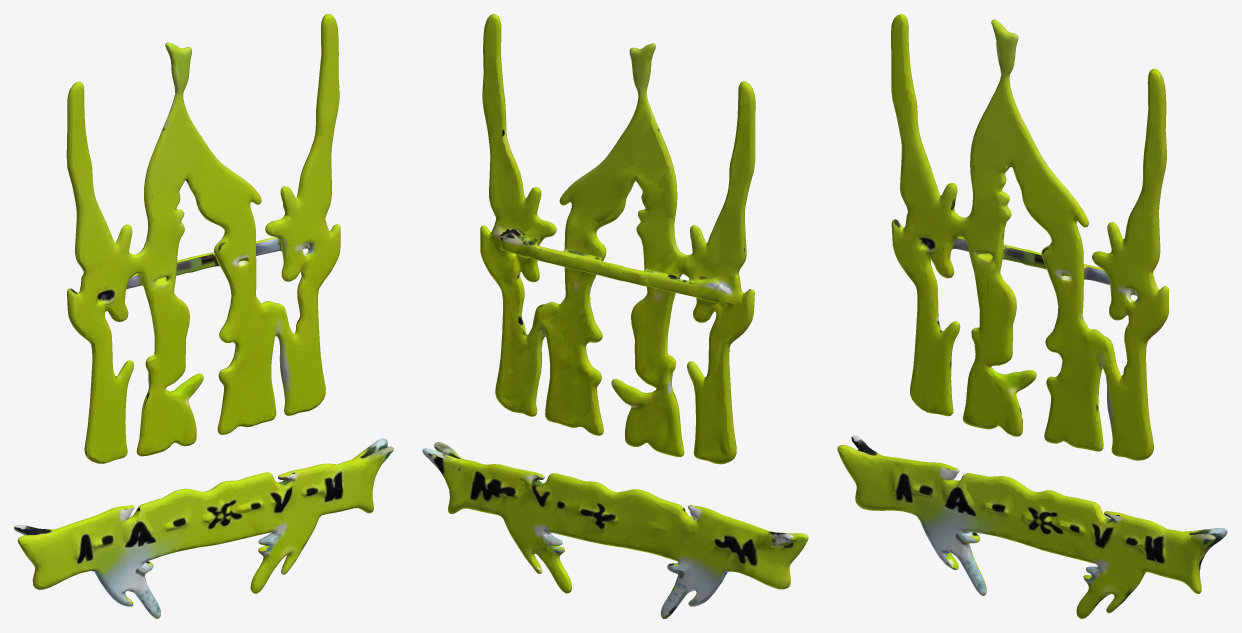
The picture shows the model from 3 angles, left to right: view 1: azimuth 30°, elevation 25°; view 2: azimuth 150°, elevation 25°; view 3: azimuth 330°, elevation 25°; orthographic projection.
Visible parts, largest first — view 1: geometry_0; view 2: geometry_0; view 3: geometry_0.
Part boxes in pixels (x1=…): geometry_0: x1=14, y1=14, x2=393, y2=618; geometry_0: x1=422, y1=14, x2=808, y2=618; geometry_0: x1=837, y1=14, x2=1227, y2=618.
Bounding box in the file's own units: 1.37 × 1.99 × 0.0849.
Materials: 1 (1 with a texture image).
